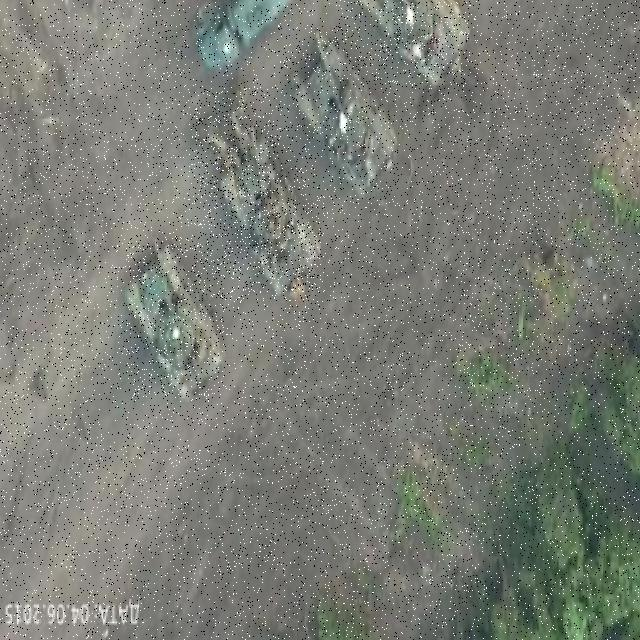MIL_MBT: (194, 87, 320, 300), (278, 26, 396, 199), (126, 237, 224, 397), (351, 1, 470, 85)
